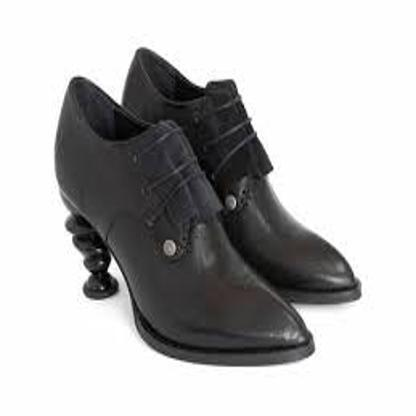not trash: (54, 44, 369, 366)
